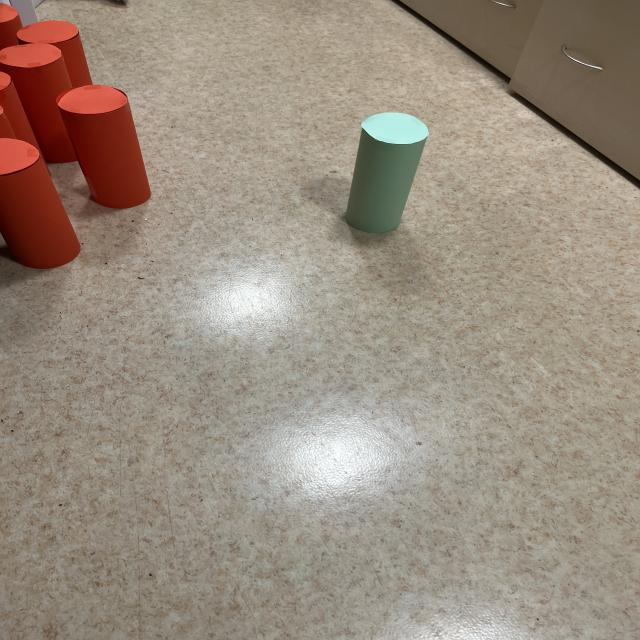meta: (345, 113, 428, 233)
